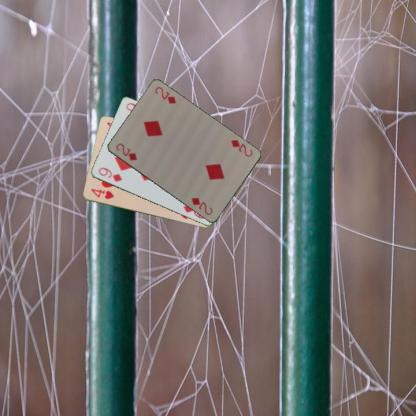2d: (113, 140, 138, 162), (228, 137, 254, 158)
4h: (88, 186, 115, 201)
9d: (96, 165, 123, 183)
